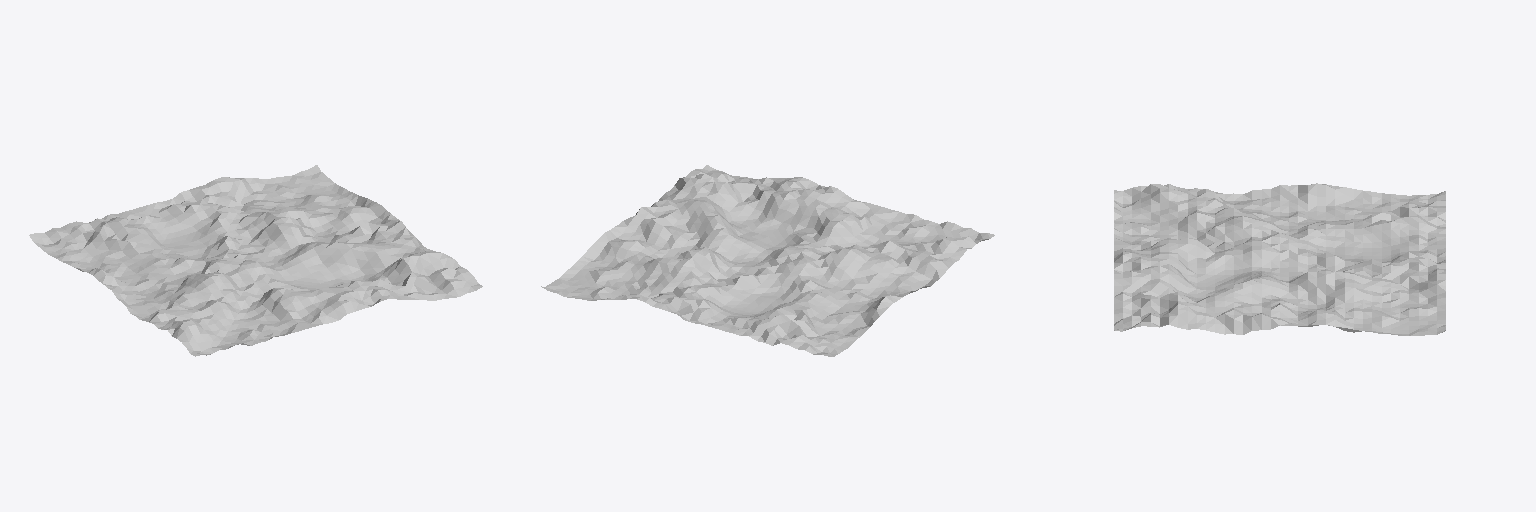
Rendered from terrain.obj.
3 renders of one model, left to right at view 1: azimuth 30°, elevation 25°; view 2: azimuth 150°, elevation 25°; view 3: azimuth 270°, elevation 25°, orthographic.
Visible parts, largest first — view 1: Grid; view 2: Grid; view 3: Grid.
Boxes of the visible parts, box(x1,y1,x2,y2) form: Grid: box(29, 165, 482, 356); Grid: box(541, 165, 994, 356); Grid: box(1114, 183, 1445, 335).
Bounding box in the file's own units: 50 × 3.88 × 50.